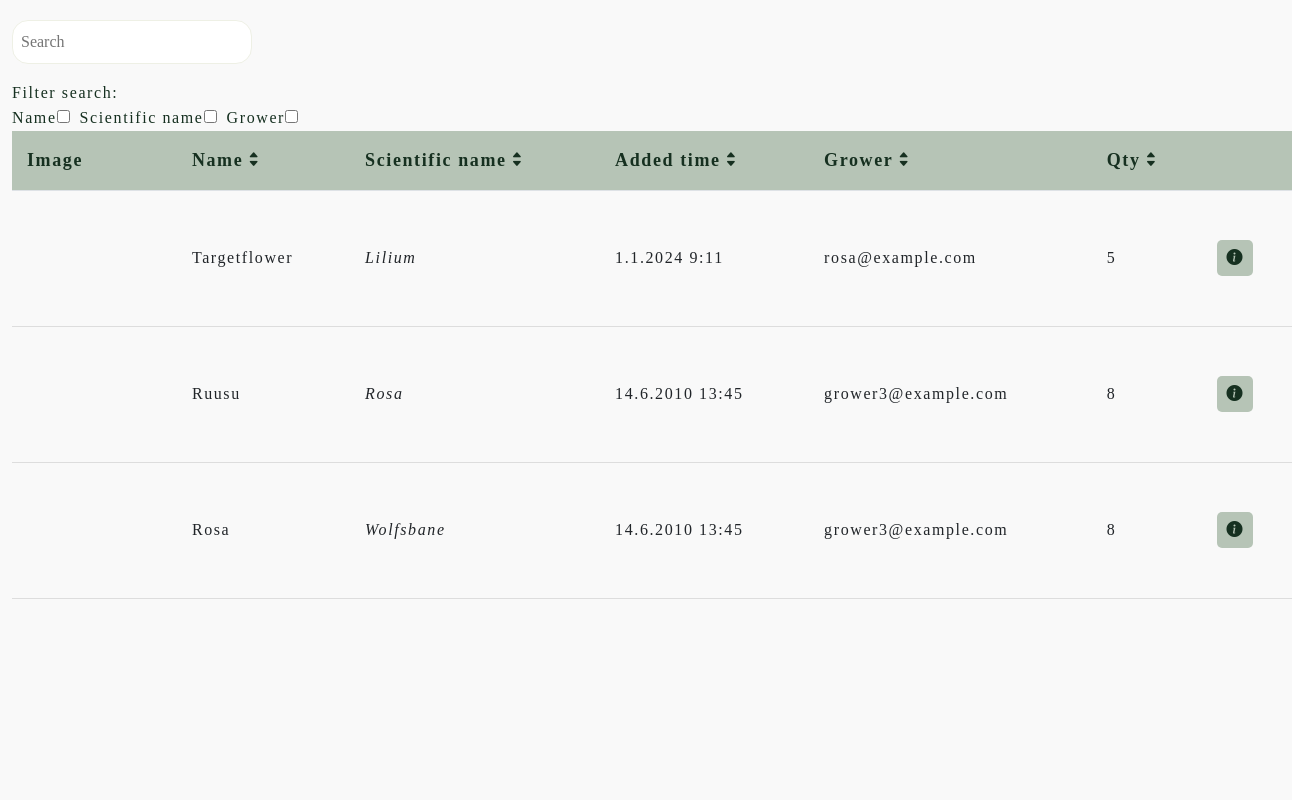
Test: Searches correctly when grower search box is checked
Click the checkbox with test id "growercheckbox" at (292, 117), box [285,110,298,123]
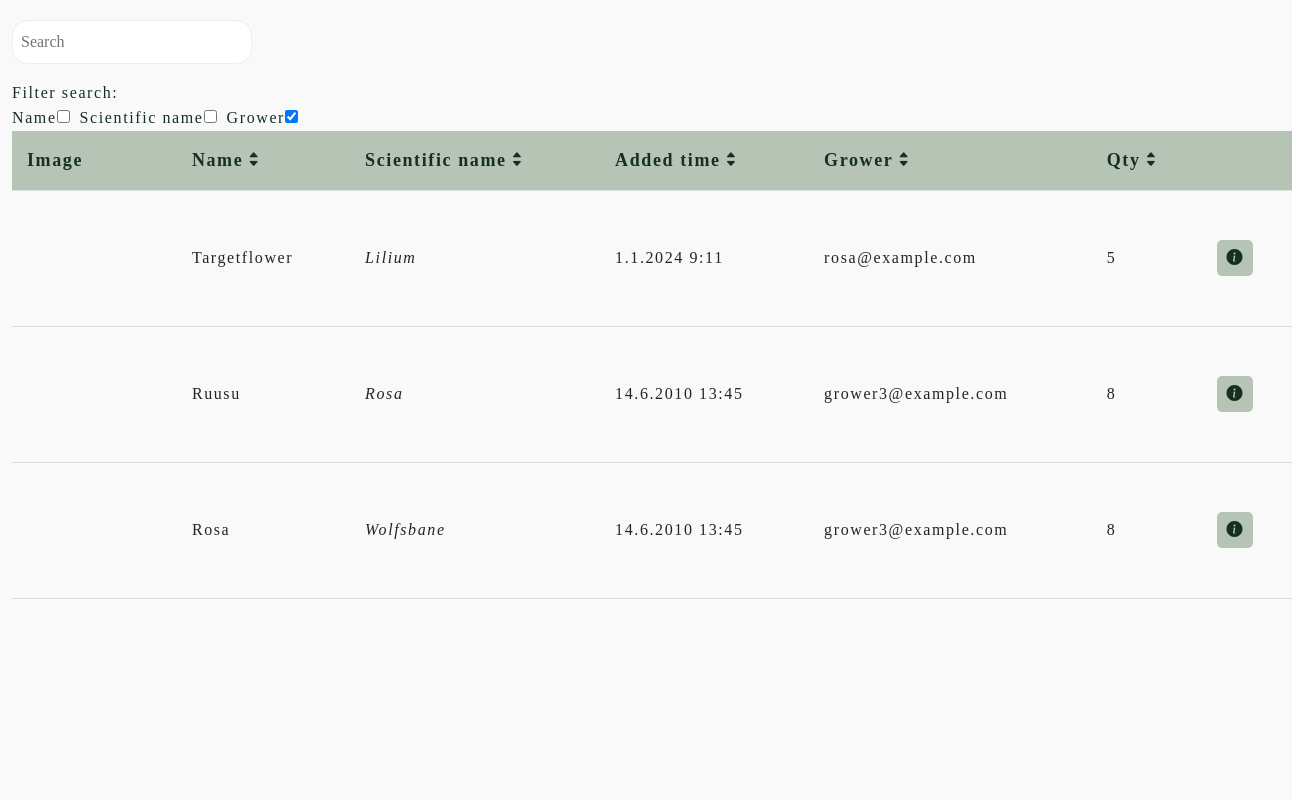
Now the checkbox with test id "growercheckbox" is checked, box [285,110,298,123]
Type "Rosa" into the field with placeholder "Search" at (132, 42), box [12,20,252,64]
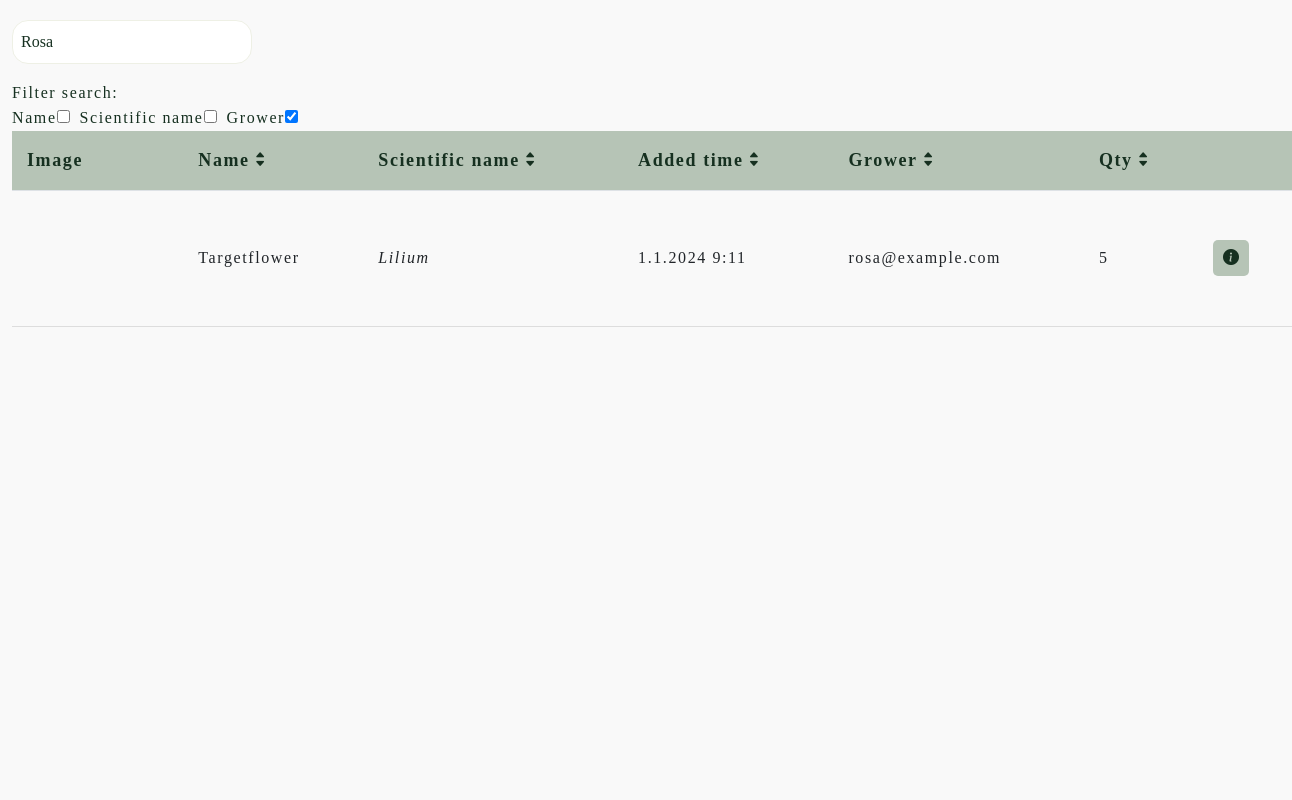
Expected: the text "Targetflower" is shown, [183,190,363,326]
Now the text "Ruusu" is gone
Now the text "Wolfsbane" is gone
